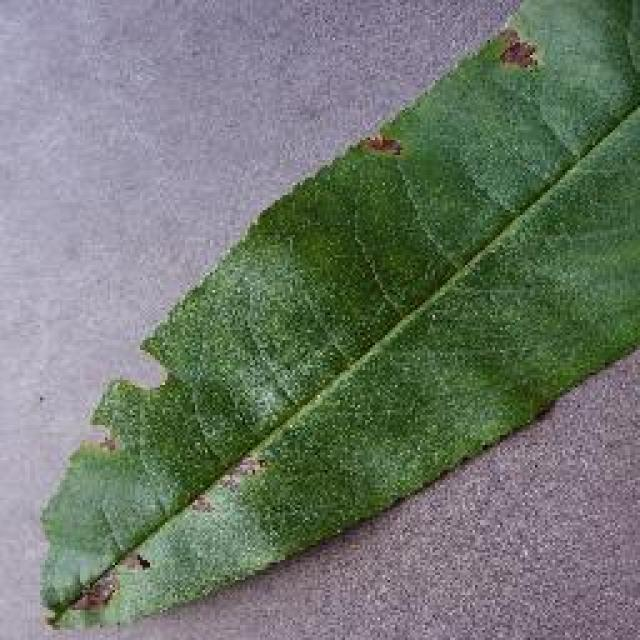Bacterial_spot: (157, 446, 292, 516), (36, 573, 146, 624), (498, 22, 560, 84), (357, 118, 415, 160)
